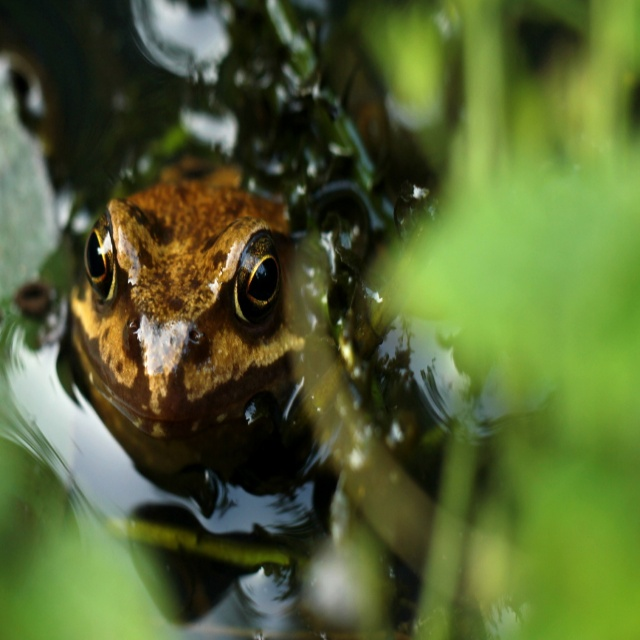Frog: (68, 154, 306, 470)
